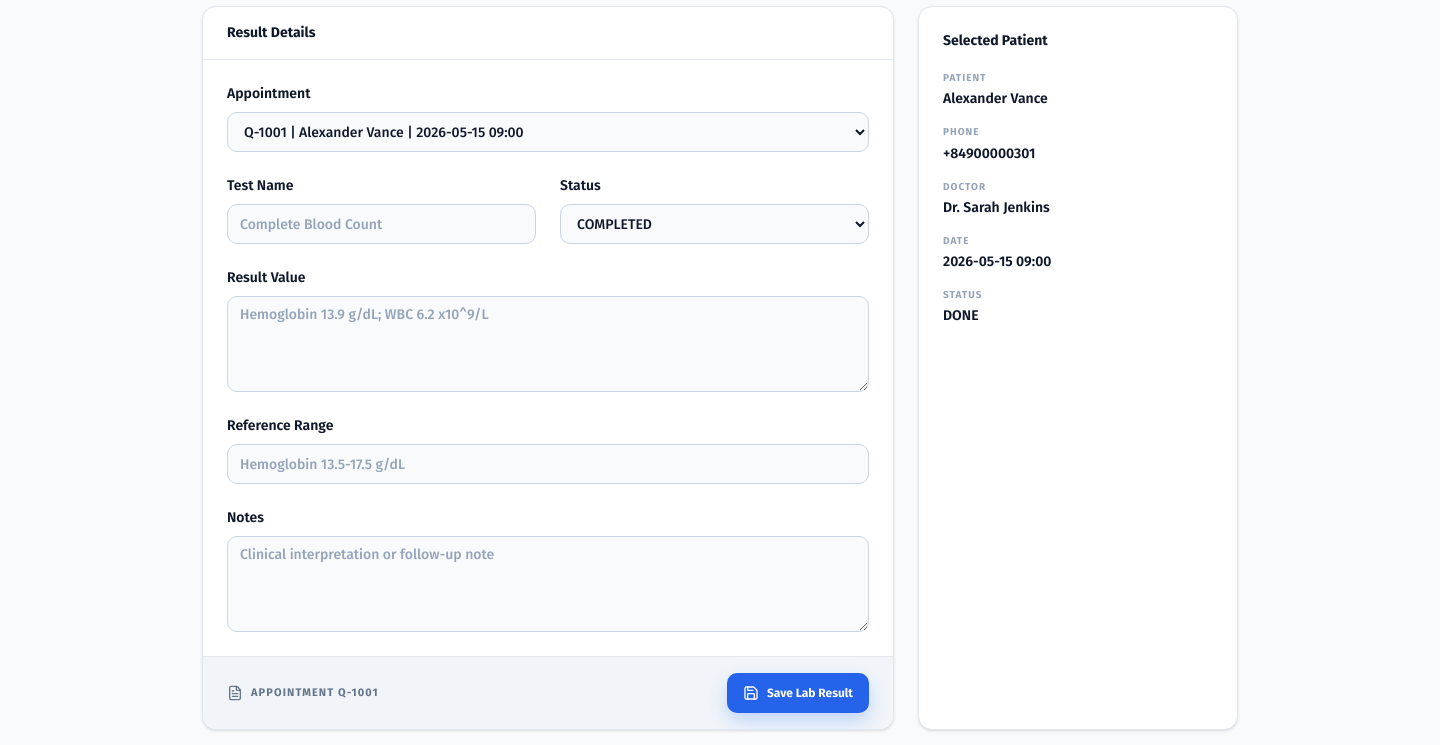
Test: NewLabResultPage › blocks submit when required fields are missing
(page scrolled)
Click the button "Save Lab Result". click: click(798, 693)
box: [727, 673, 869, 713]
(page scrolled)
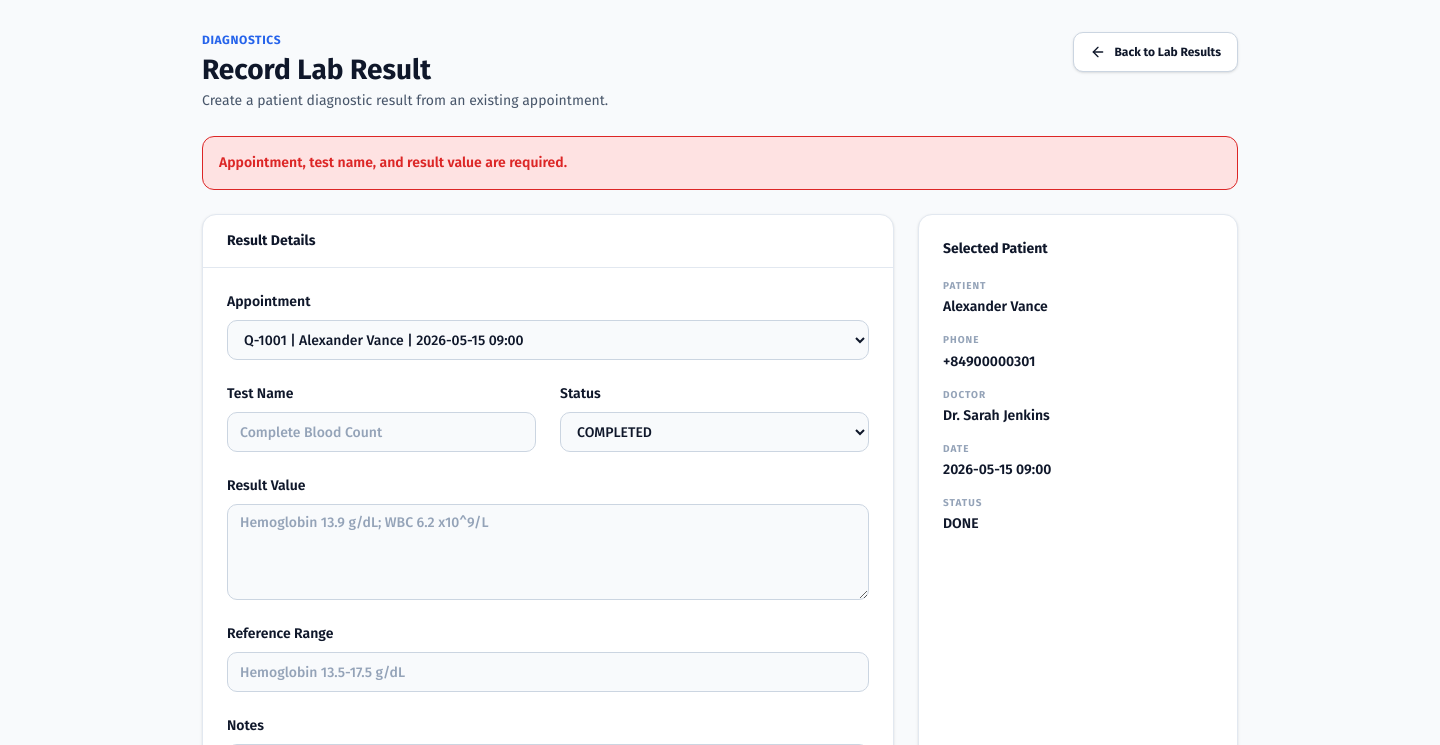
Expected: the message reads "Appointment, test name, and result value are required.", [219, 154, 567, 171]
